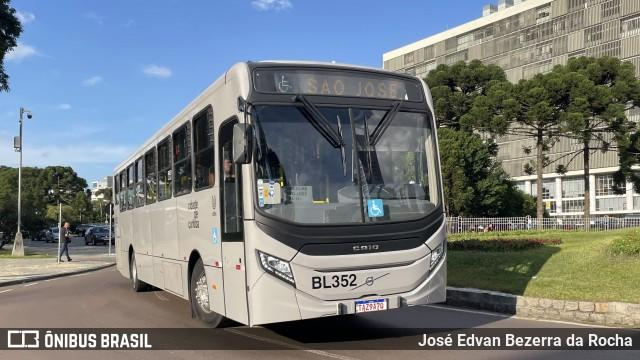SAO JOSE: (302, 75, 402, 102)
